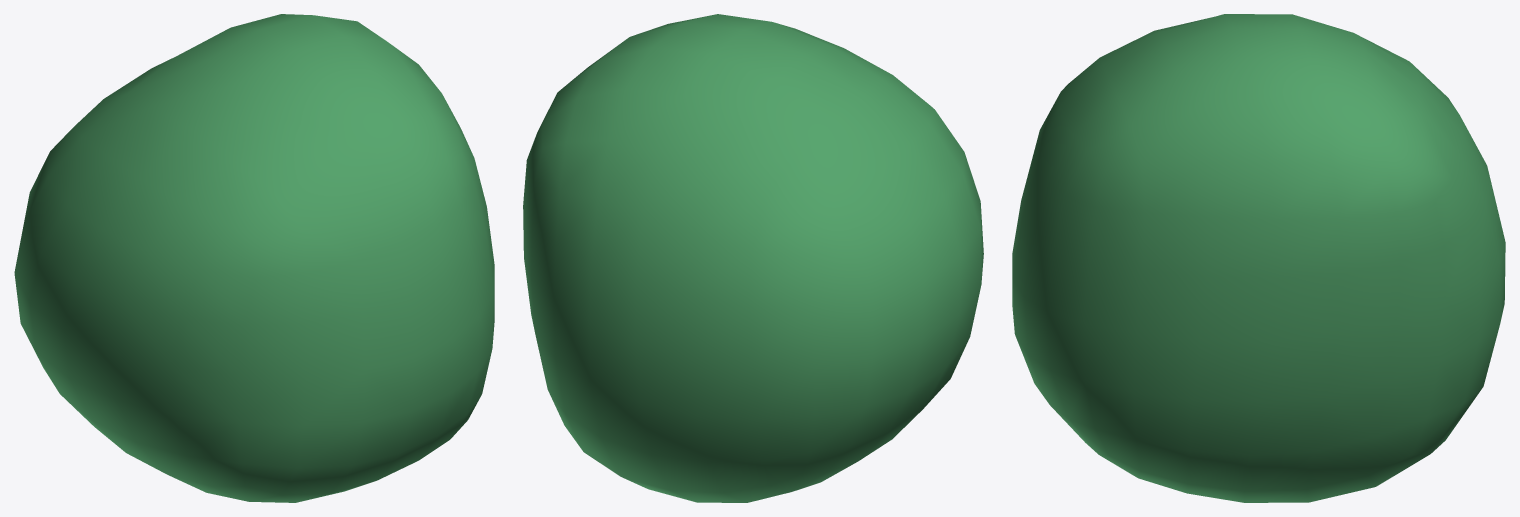
Rendered from Pea_03.dae.
3 views of the same model, side by side, from view 1: azimuth 30°, elevation 25°; view 2: azimuth 150°, elevation 25°; view 3: azimuth 270°, elevation 25° (orthographic). The views are drawn at different scales.
Visible parts, largest first — view 1: Pea_03_LOD0; view 2: Pea_03_LOD0; view 3: Pea_03_LOD0.
Boxes of the visible parts, left/top/right/bottom form: Pea_03_LOD0: left=14, top=14, right=494, bottom=502; Pea_03_LOD0: left=523, top=14, right=983, bottom=502; Pea_03_LOD0: left=1012, top=14, right=1505, bottom=502.
Size of what is drawn, in the model's own units: 1.41 by 1.44 by 1.46.
